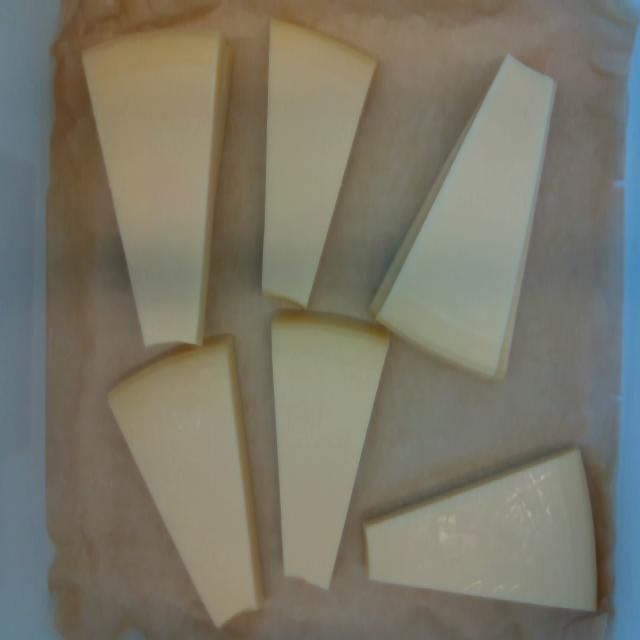Cheese: (371, 59, 553, 377), (85, 31, 219, 344), (111, 341, 258, 624), (365, 449, 595, 609), (272, 311, 389, 587), (262, 21, 374, 307)
